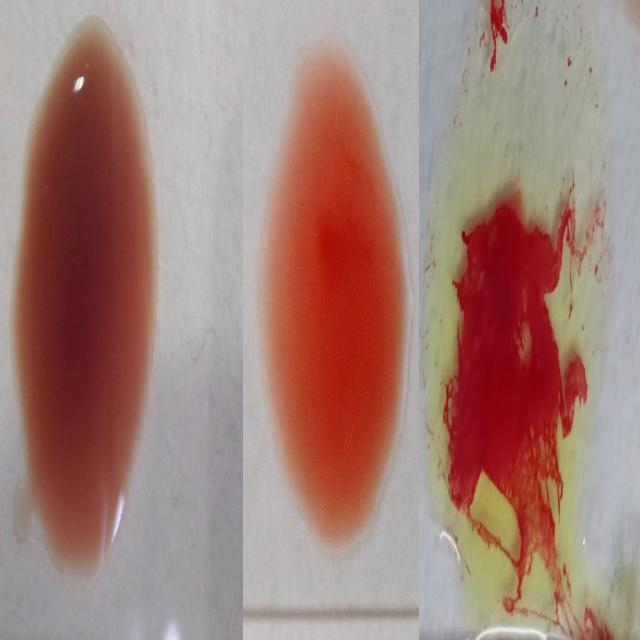B: (433, 14, 608, 612)
